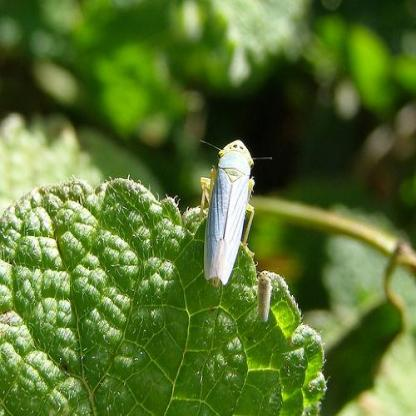Green-Leafhopper: (196, 134, 258, 289)
